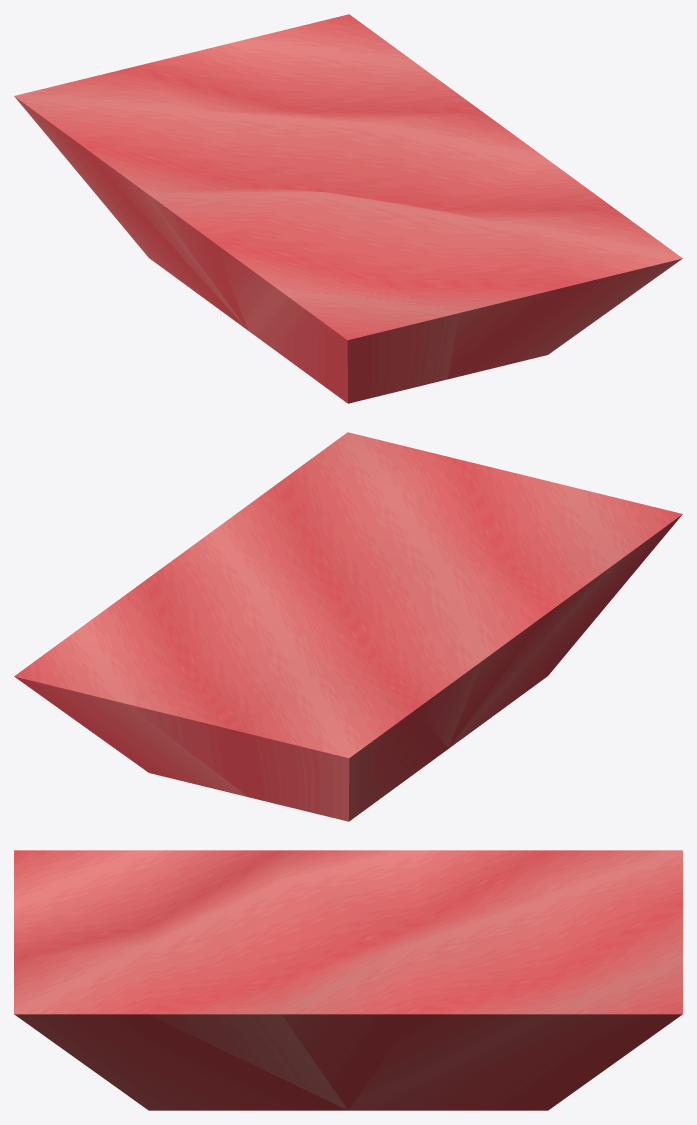
The model's file is icecream_container_icecream_strawberry.gltf.
The picture shows the model from 3 angles, top to bottom: view 1: azimuth 30°, elevation 25°; view 2: azimuth 150°, elevation 25°; view 3: azimuth 270°, elevation 25°; orthographic projection.
Parts seen in each view (by area): view 1: icecream_container_icecream_strawberry; view 2: icecream_container_icecream_strawberry; view 3: icecream_container_icecream_strawberry.
Boxes of the visible parts, left/top/right/bottom form: icecream_container_icecream_strawberry: left=14, top=14, right=682, bottom=403; icecream_container_icecream_strawberry: left=14, top=432, right=682, bottom=821; icecream_container_icecream_strawberry: left=14, top=850, right=682, bottom=1110.
Bounding box in the file's own units: 0.8144 × 0.3534 × 1.4.
1 material, 1 textured.
